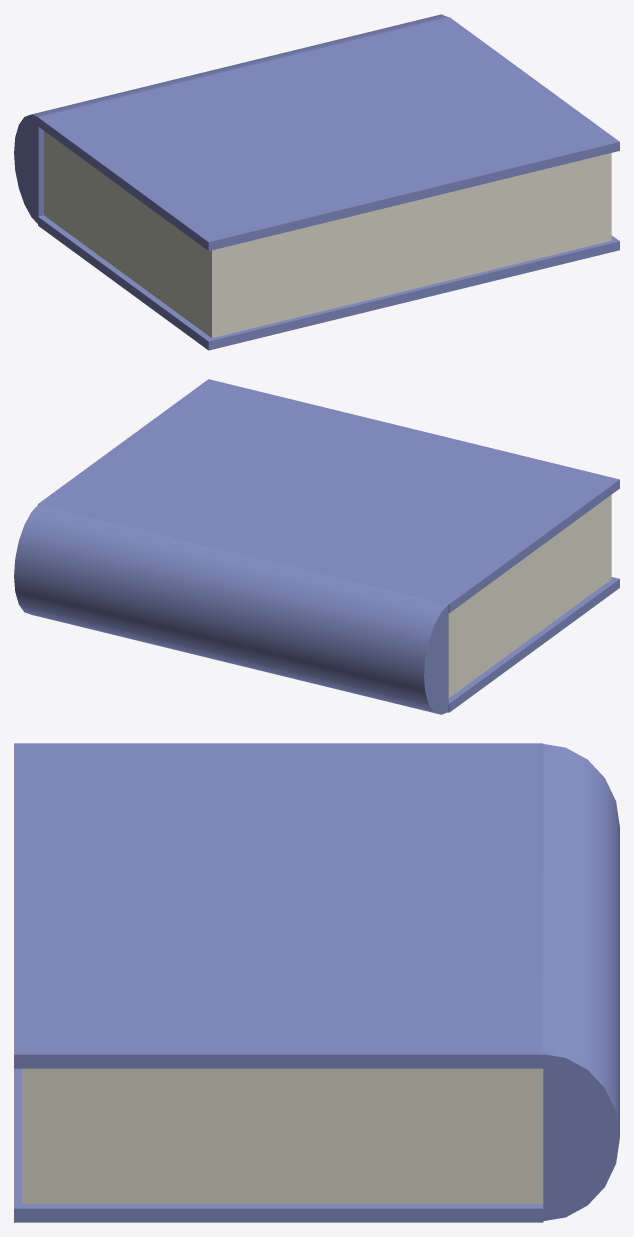
The model's file is book2.fbx.
The picture shows the model from 3 angles, top to bottom: view 1: azimuth 30°, elevation 25°; view 2: azimuth 150°, elevation 25°; view 3: azimuth 270°, elevation 25°; orthographic projection. The views are drawn at different scales.
Parts seen in each view (by area): view 1: pCylinder10; view 2: pCylinder10; view 3: pCylinder10.
Boxes of the visible parts, left/top/right/bottom form: pCylinder10: left=14, top=14, right=619, bottom=350; pCylinder10: left=14, top=379, right=619, bottom=714; pCylinder10: left=14, top=743, right=619, bottom=1222.
Size of the model in its own units: 8.23 by 2.07 by 6.77.
